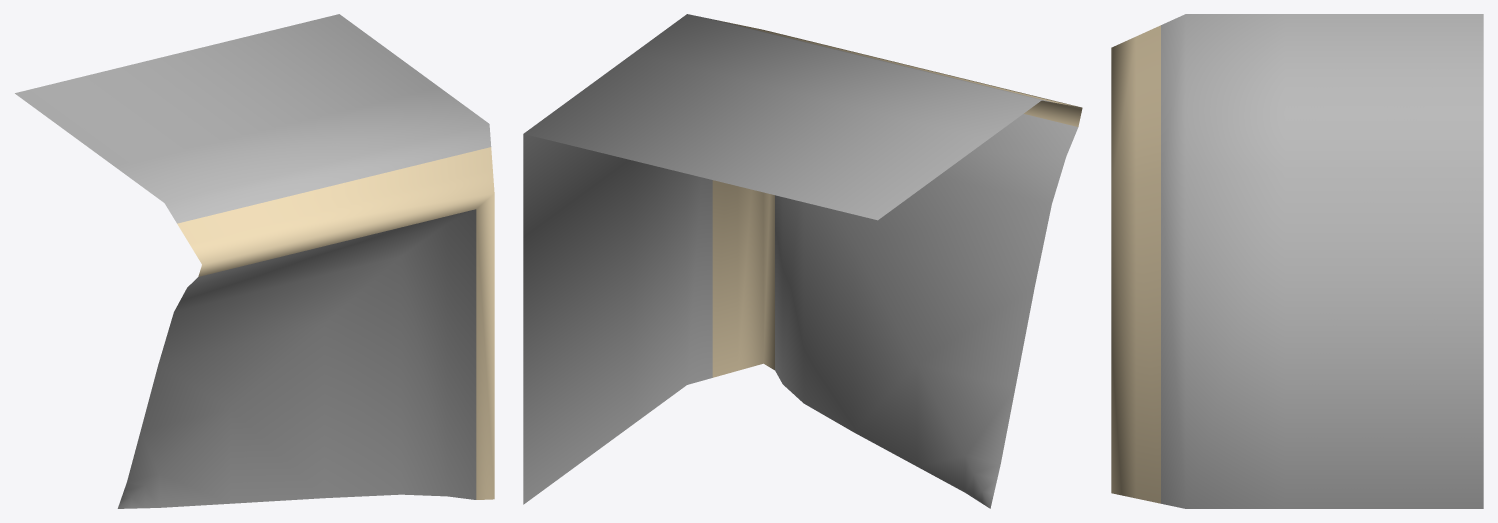
The model's file is pf_corner_d.glb.
The picture shows the model from 3 angles, left to right: view 1: azimuth 30°, elevation 25°; view 2: azimuth 150°, elevation 25°; view 3: azimuth 270°, elevation 25°; orthographic projection. The views are drawn at different scales.
Visible parts, largest first — view 1: pf_corner_d; view 2: pf_corner_d; view 3: pf_corner_d.
Boxes of the visible parts, x1,y1,x2,y2 form: pf_corner_d: [15, 14, 494, 508]; pf_corner_d: [523, 14, 1082, 508]; pf_corner_d: [1111, 14, 1483, 508].
Size of the model in its own units: 1 by 1 by 1.
